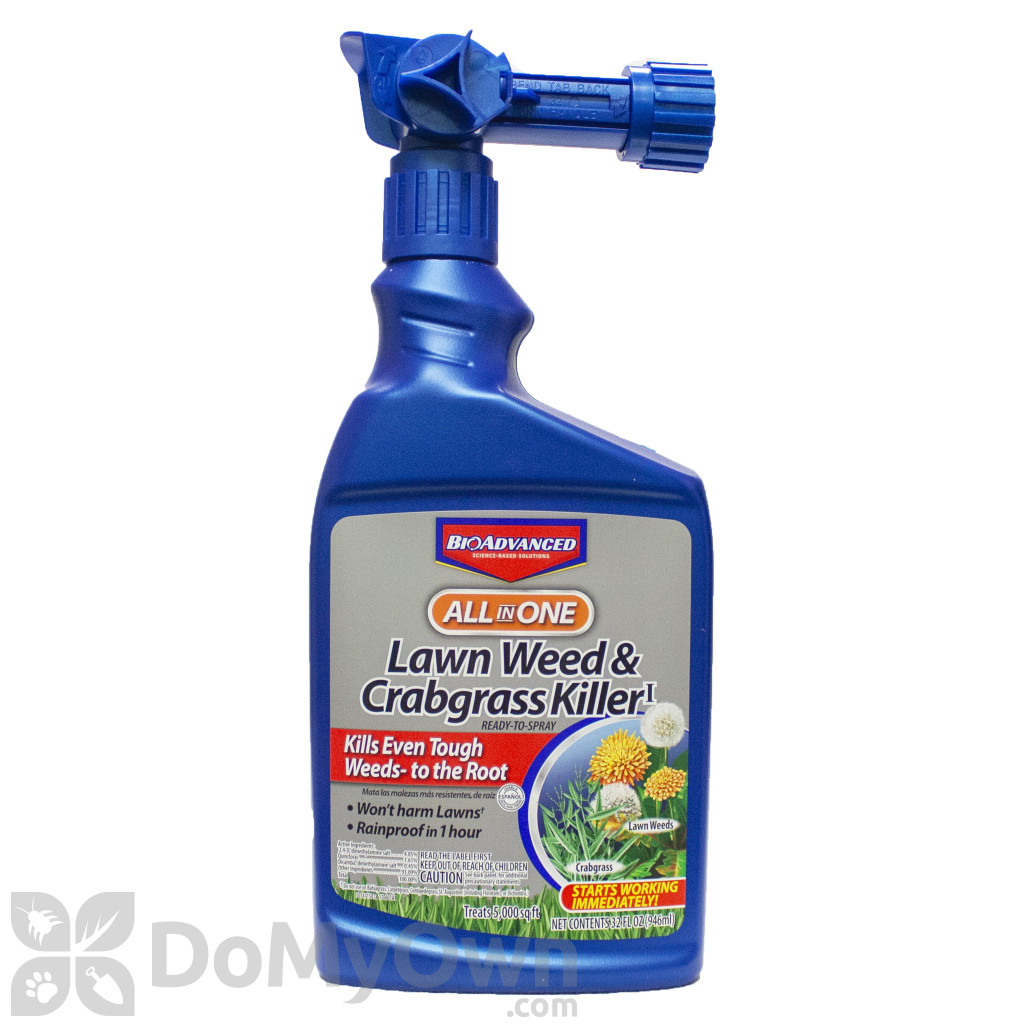crabgrass: (533, 795, 628, 882)
